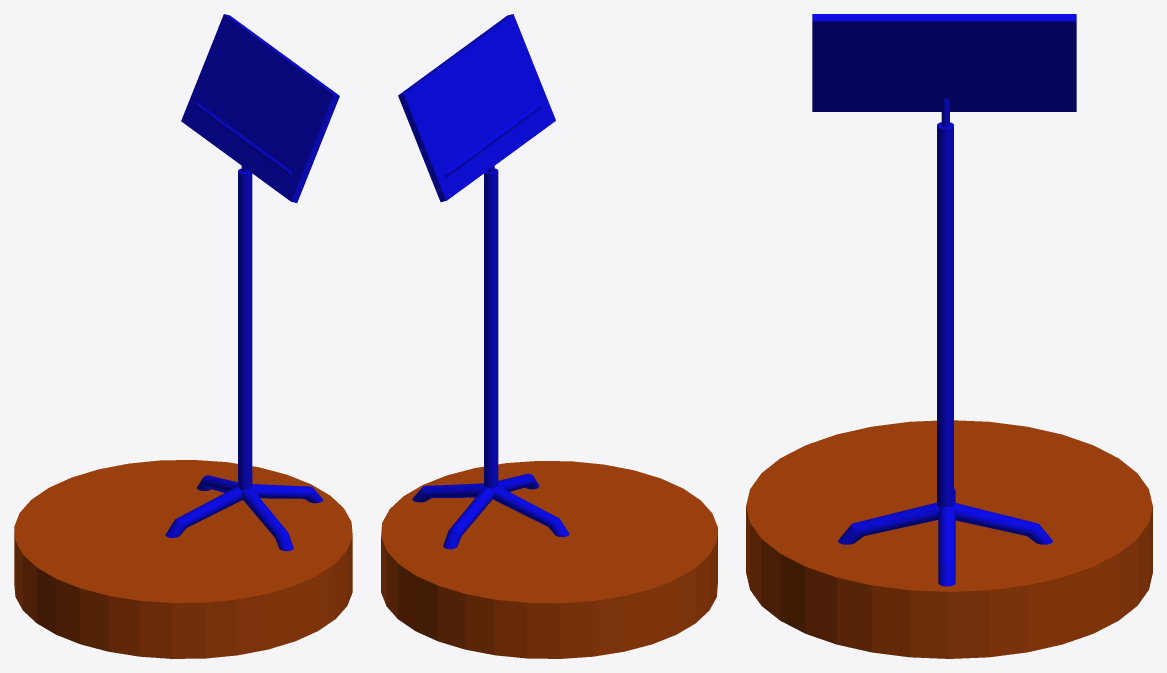
The model's file is Atril.fbx.
3 renders of one model, left to right at view 1: azimuth 30°, elevation 25°; view 2: azimuth 150°, elevation 25°; view 3: azimuth 270°, elevation 25°, orthographic. The views are drawn at different scales.
Parts seen in each view (by area): view 1: Atril_escen_empresa; view 2: Atril_escen_empresa; view 3: Atril_escen_empresa.
Boxes of the visible parts, bbox=[...] form: Atril_escen_empresa: bbox=[14, 14, 352, 658]; Atril_escen_empresa: bbox=[381, 14, 717, 658]; Atril_escen_empresa: bbox=[746, 14, 1152, 658].
Size of the model in its own units: 93.92 by 156 by 93.98.
